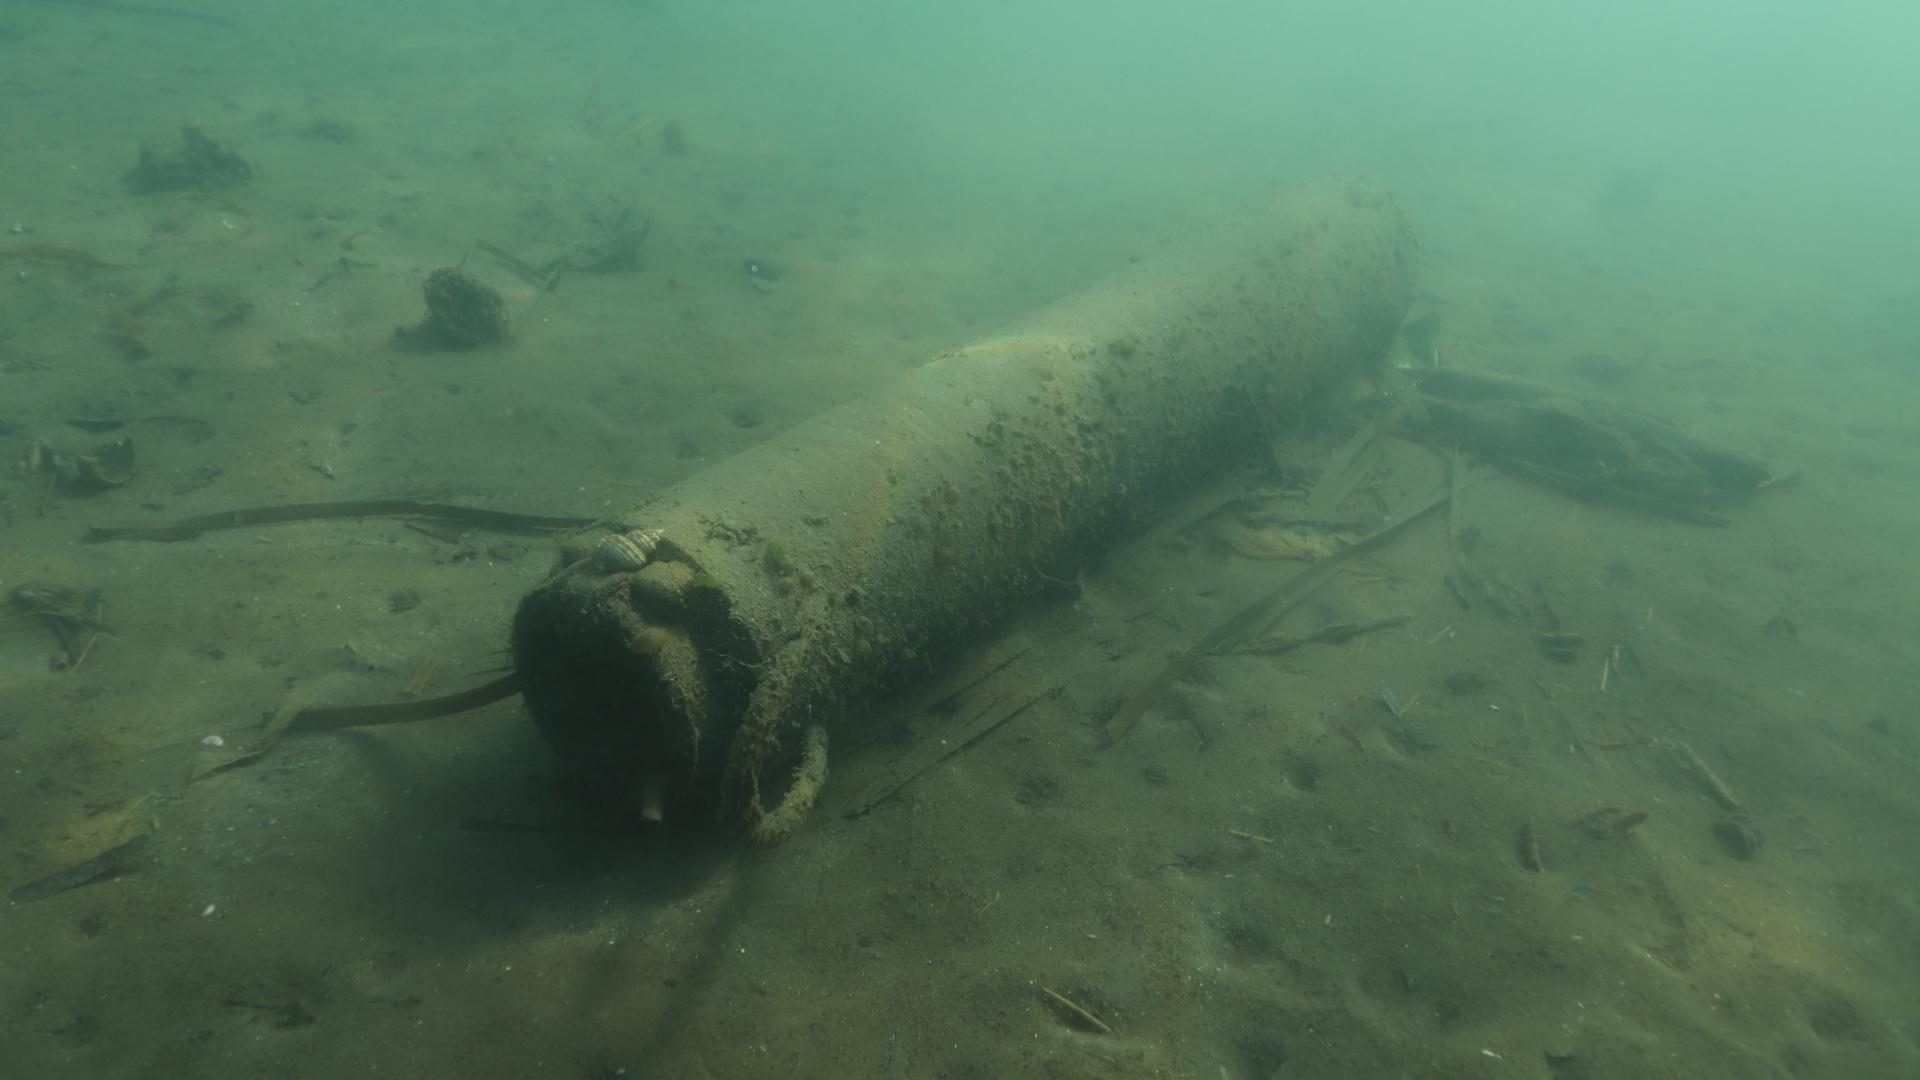eel fish trap: (512, 179, 1420, 825)
rope: (720, 612, 847, 835)
